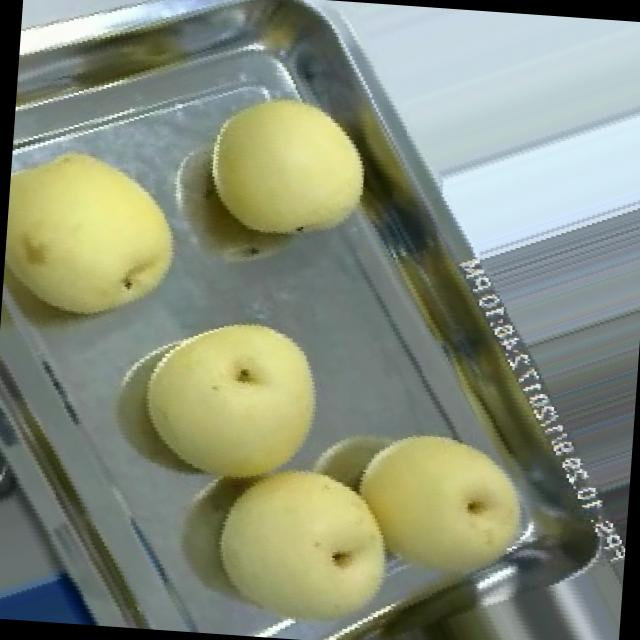Fruit: (116, 293, 341, 509), (331, 400, 552, 610), (0, 122, 206, 347), (188, 444, 422, 640), (180, 67, 392, 268)
